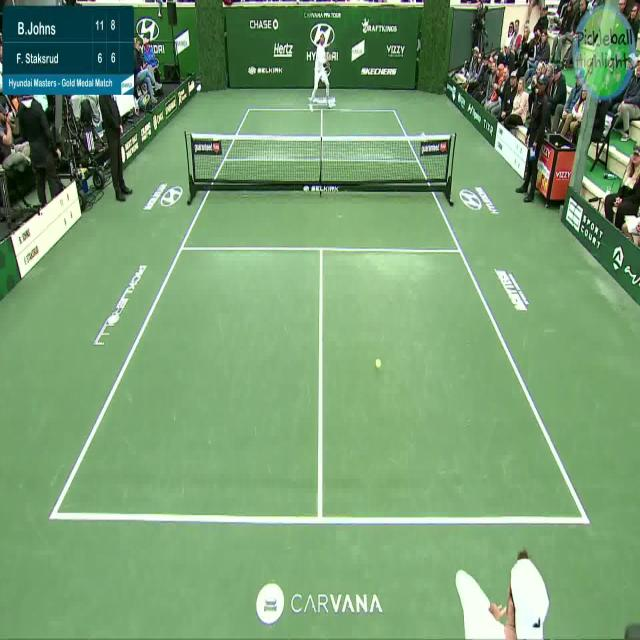ball: (373, 352, 384, 372)
